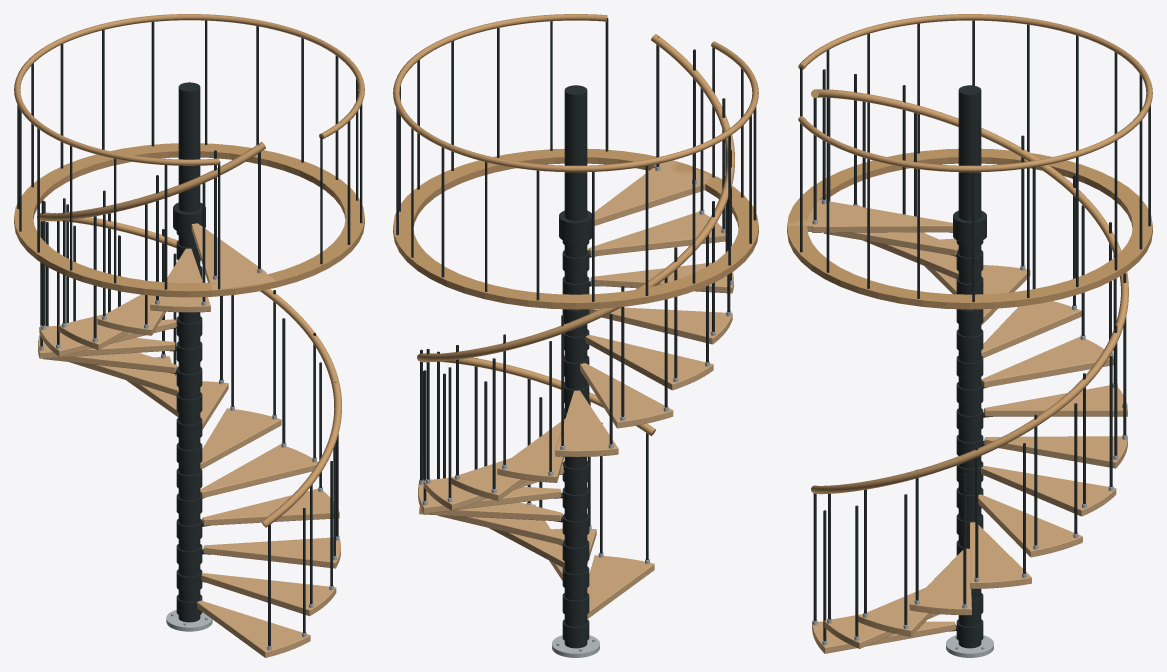
The model's file is spiral-staircase.glb.
3 renders of one model, left to right at view 1: azimuth 30°, elevation 25°; view 2: azimuth 150°, elevation 25°; view 3: azimuth 270°, elevation 25°, orthographic. The views are drawn at different scales.
Visible parts, largest first — view 1: spiral-staircase authored assembly; view 2: spiral-staircase authored assembly; view 3: spiral-staircase authored assembly.
Boxes of the visible parts, <box> form: spiral-staircase authored assembly: <box>14,14,364,657</box>; spiral-staircase authored assembly: <box>393,14,758,657</box>; spiral-staircase authored assembly: <box>787,14,1152,657</box>.
Size of the model in its own units: 2.2 by 3.7 by 2.2.
